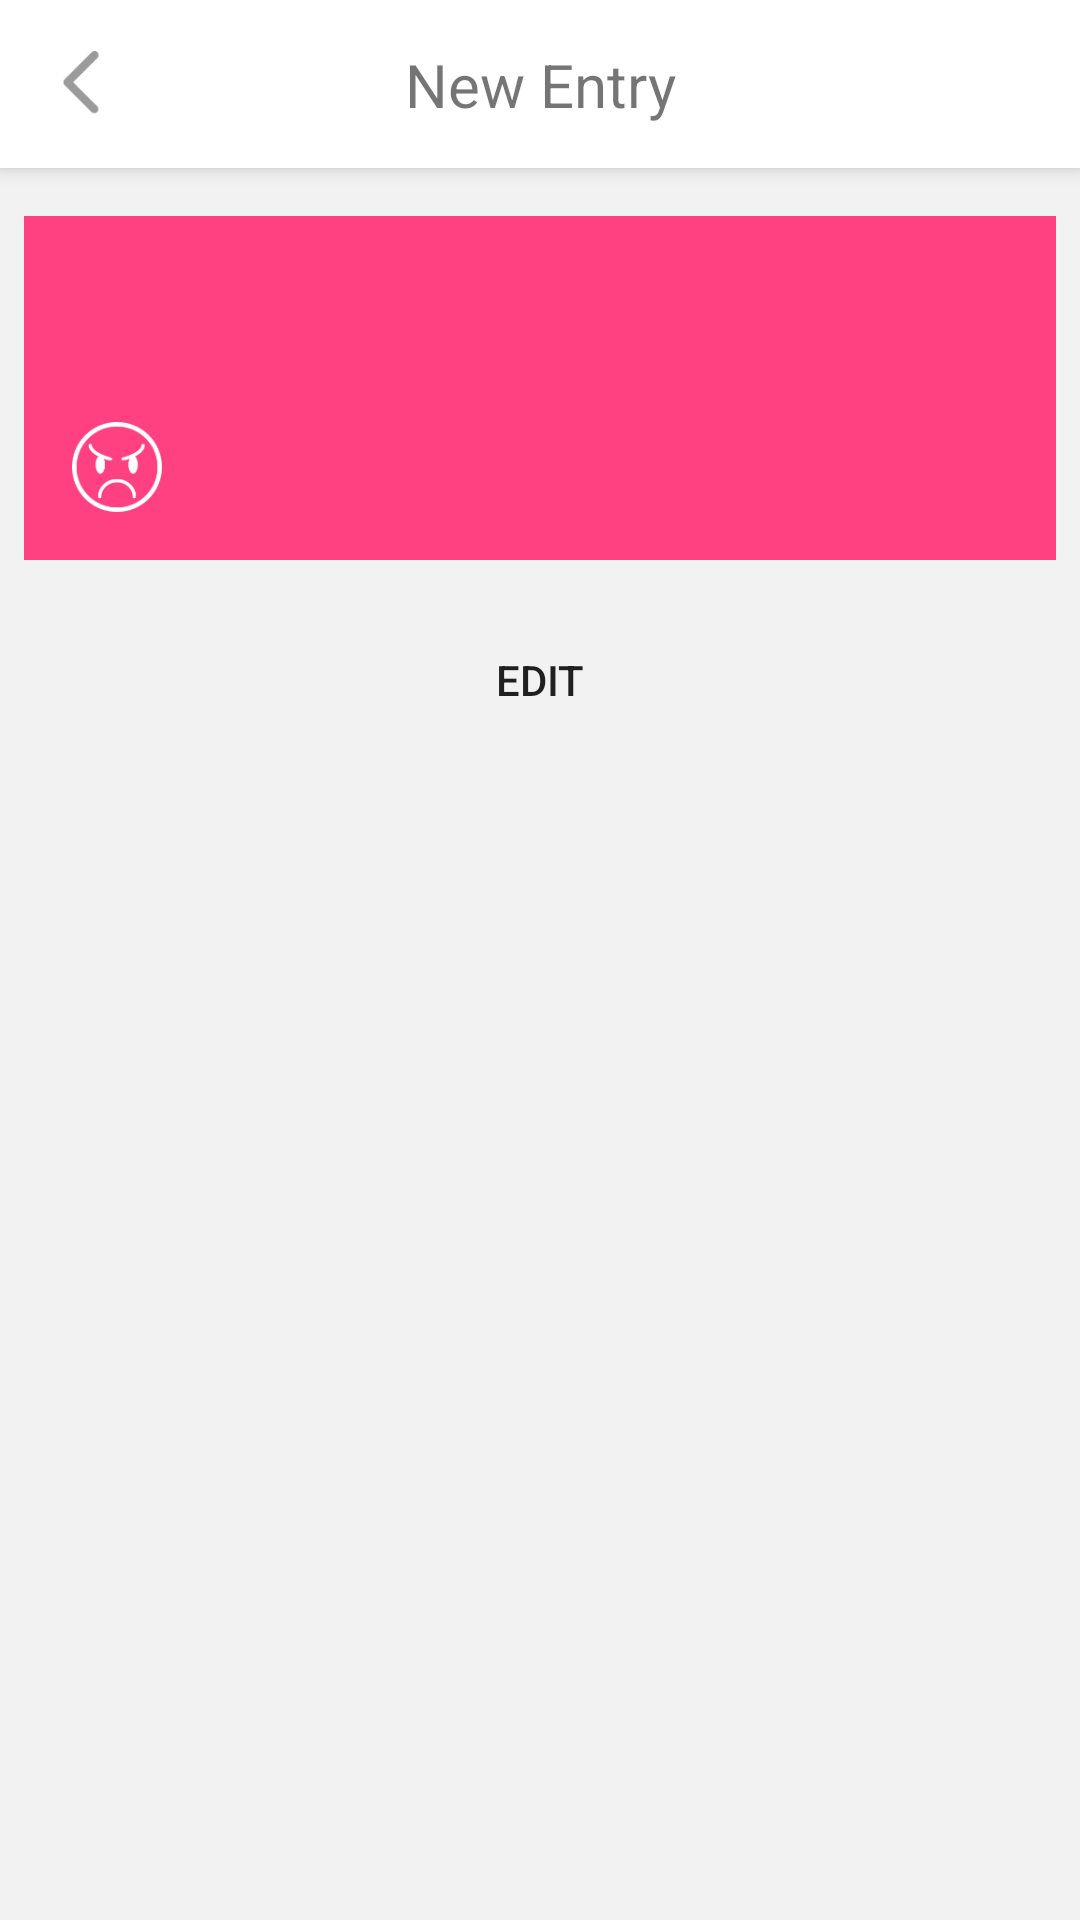

Icons on this 1080x1920 Android screen, each with the point to tap as (x=x, y=y):
angry: (x=117, y=467)
back rounded: (x=81, y=82)
